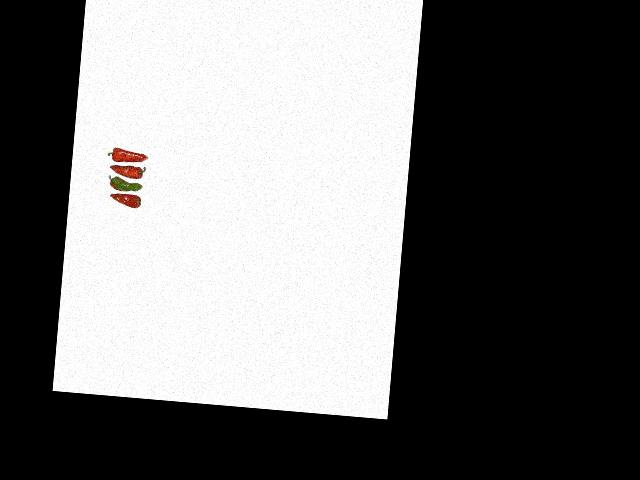bell_pepper: (105, 191, 142, 212)
